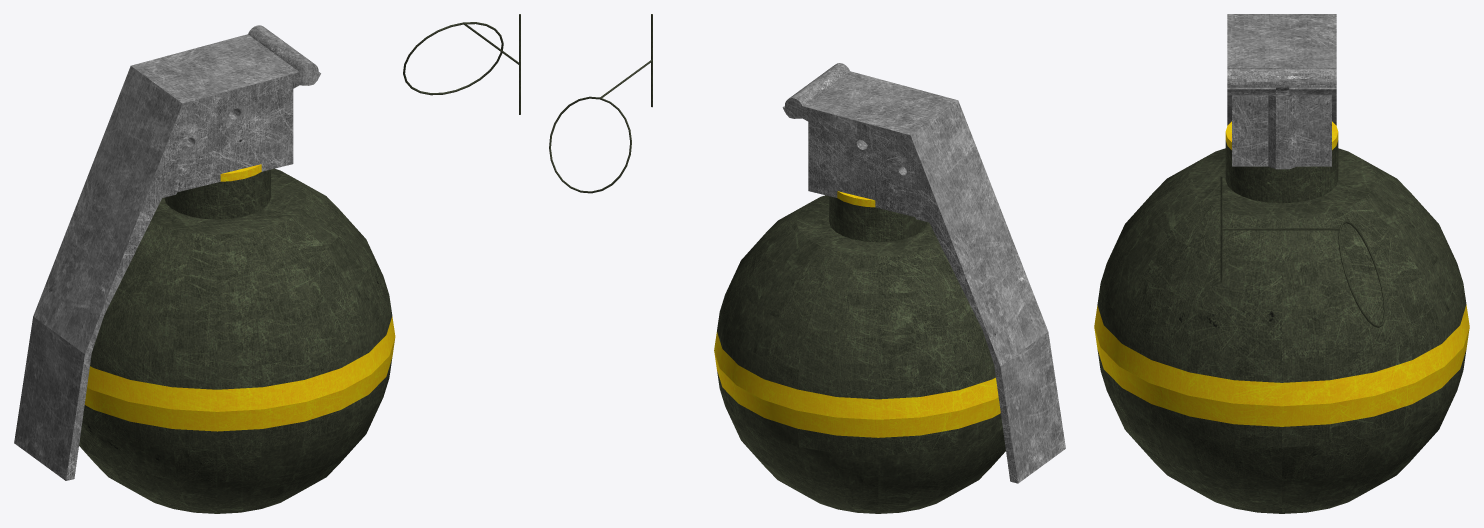
File: Grenade.FBX
3 views of the same model, side by side, from view 1: azimuth 30°, elevation 25°; view 2: azimuth 150°, elevation 25°; view 3: azimuth 270°, elevation 25° (orthographic). The views are drawn at different scales.
Parts seen in each view (by area): view 1: Grenade1, Ring1; view 2: Grenade1, Ring1; view 3: Grenade1, Ring1.
Part boxes in pixels (x1,y1,x2,y2): Grenade1: (14, 25, 395, 513); Ring1: (403, 14, 520, 114); Grenade1: (714, 63, 1065, 513); Ring1: (549, 14, 652, 193); Grenade1: (1094, 14, 1469, 513); Ring1: (1220, 175, 1385, 327).
Size of the model in its own units: 85.45 by 71.79 by 52.91.
